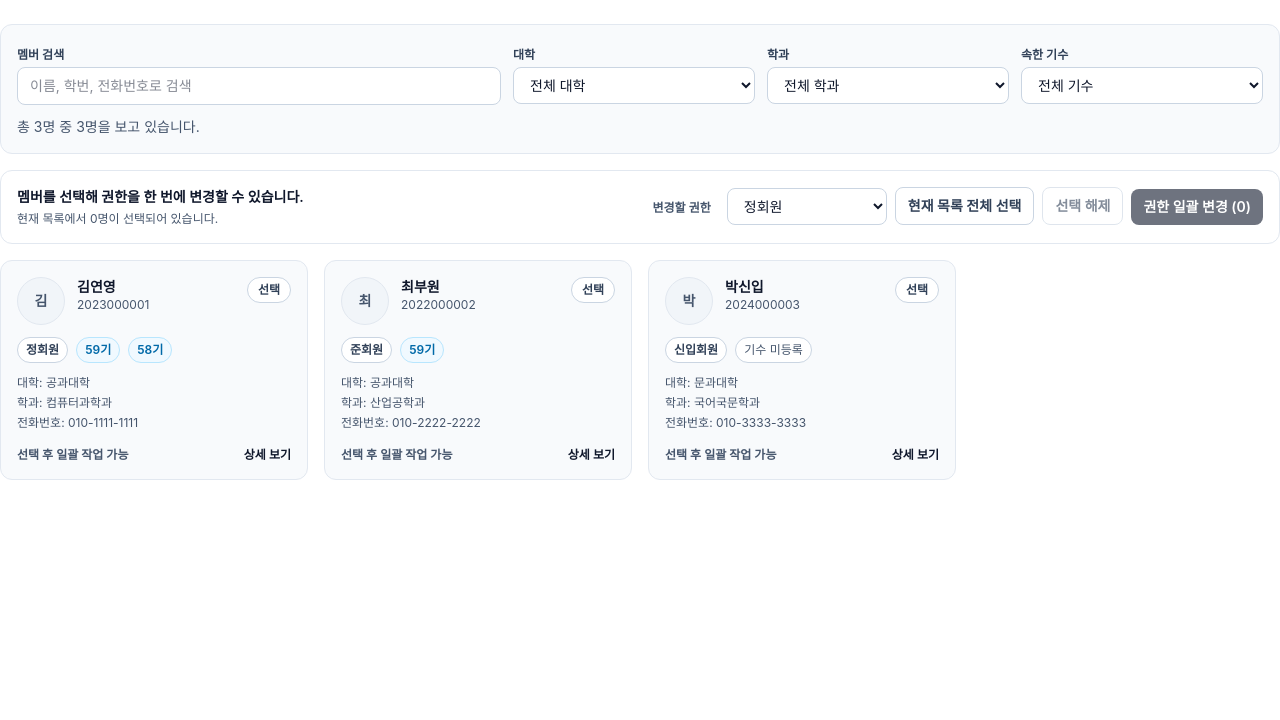
it: MembersGrid › keeps selection when bulk role update fails
Expected: the text "김연영" is shown, [77,278,116,295]
Click the button with test id "settings-members-select-user-1" at [269, 290], box [247,277,291,303]
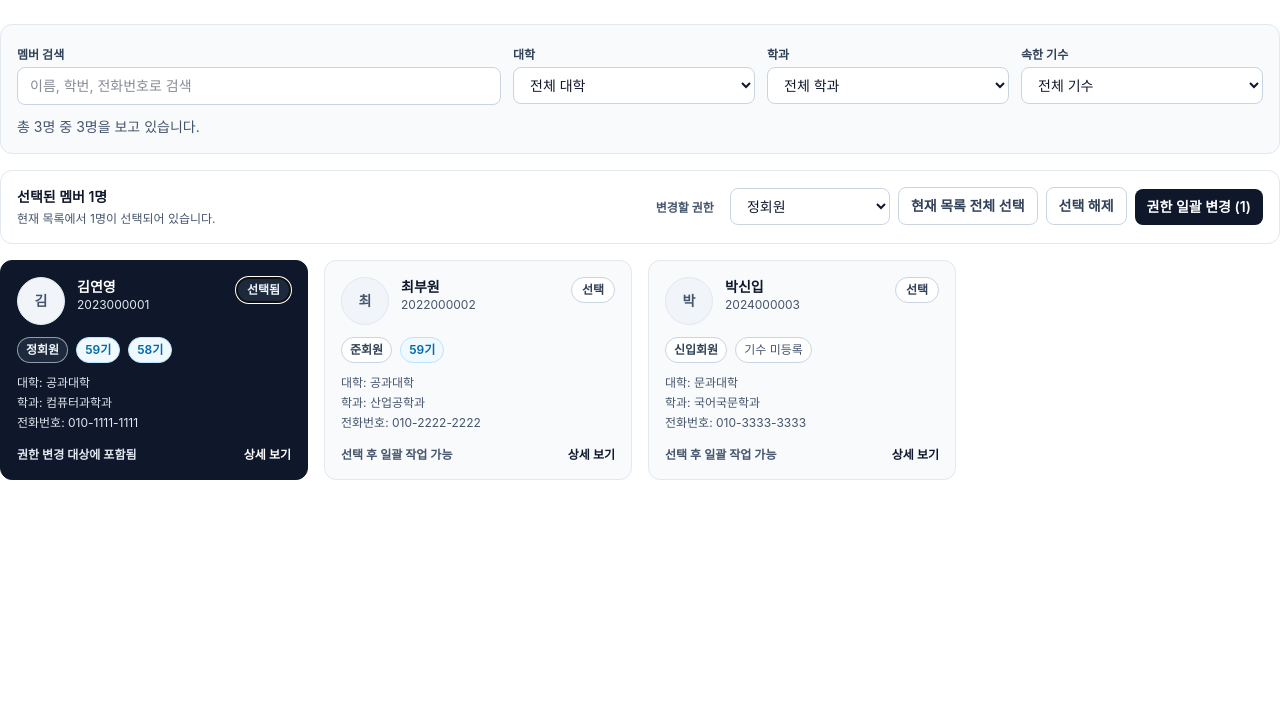
Click the button with test id "settings-members-bulk-role-submit" at [1199, 207], box [1135,189,1263,225]
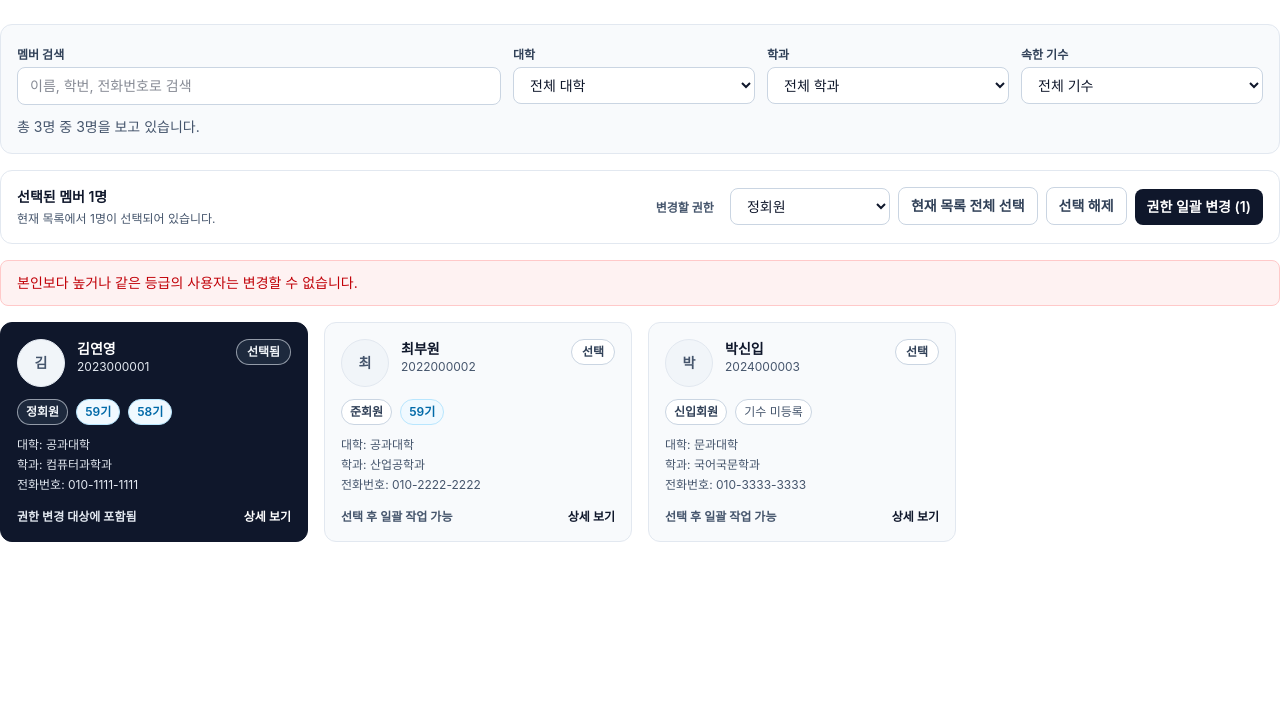
Expected: the text with test id "settings-members-selection-summary" reads "선택된 멤버 1명", [17,188,107,205]
Expected: the text "본인보다 높거나 같은 등급의 사용자는 변경할 수 없습니다." is shown, [0,260,1279,306]
